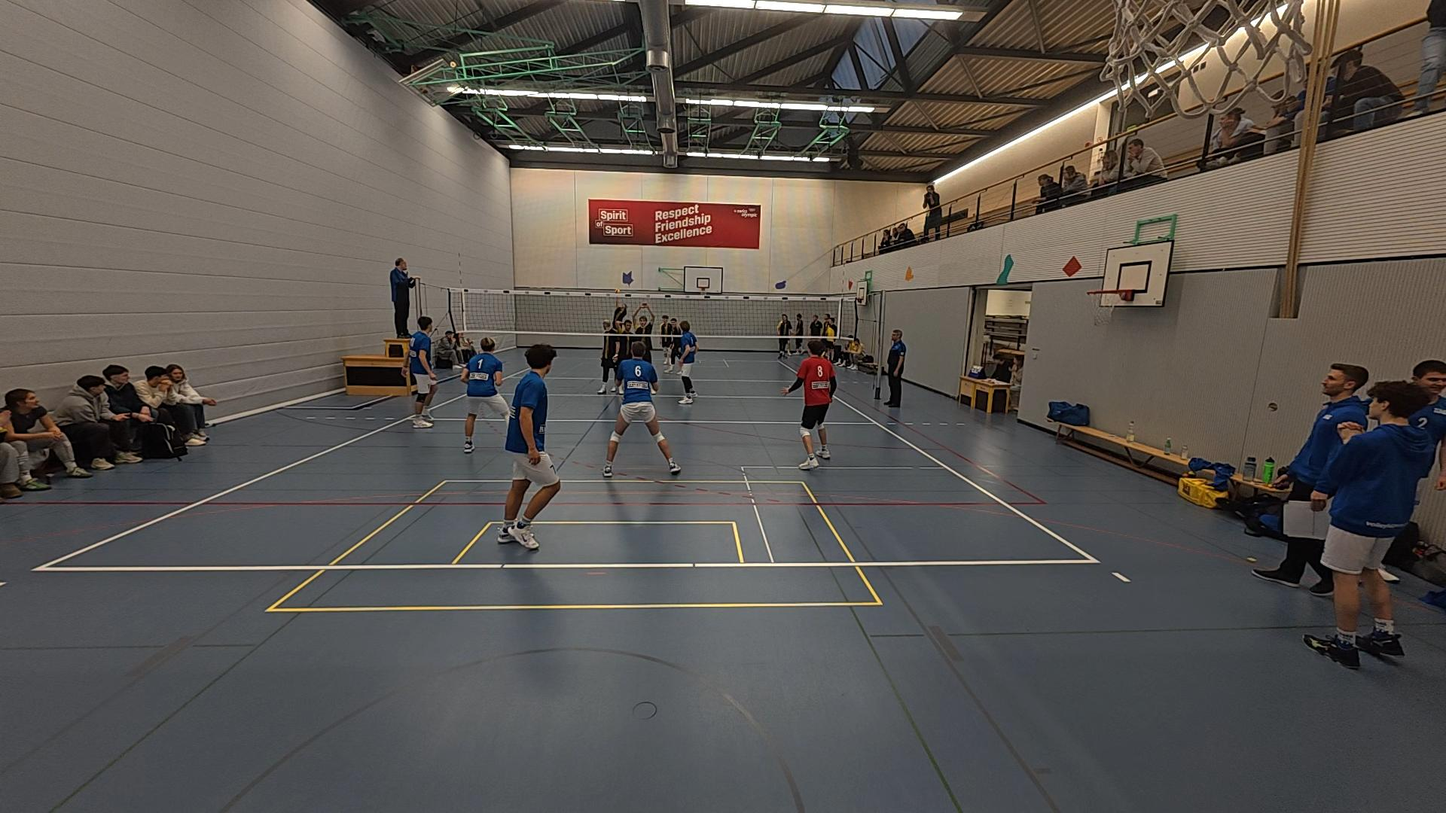Player: (1304, 379, 1444, 670), (499, 343, 560, 548), (601, 343, 681, 477), (783, 340, 836, 470), (459, 338, 509, 454), (407, 317, 439, 430), (625, 298, 658, 394), (668, 319, 700, 406), (595, 315, 626, 395), (655, 312, 681, 369)
Serve: (606, 286, 630, 328)
ball: (901, 264, 917, 282), (612, 286, 623, 295)
